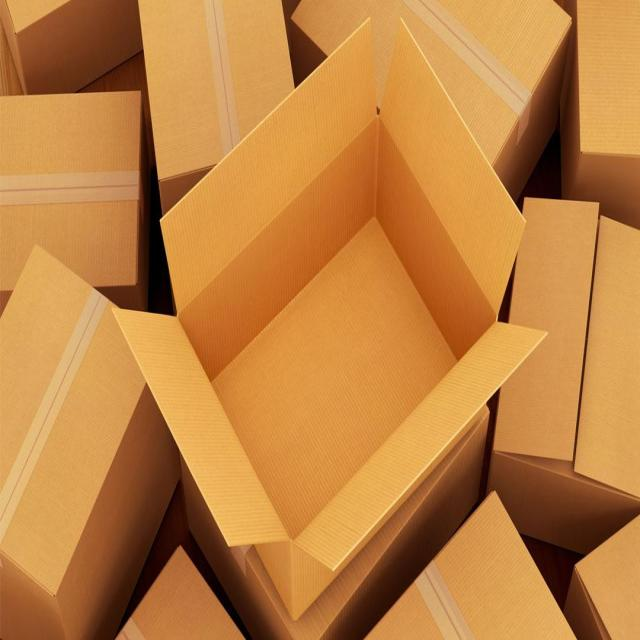cardboard: (116, 20, 530, 622)
